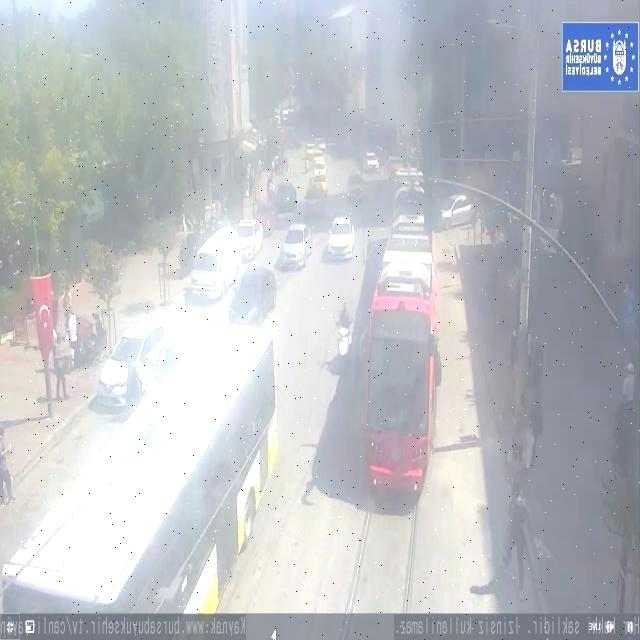Bus: (4, 325, 279, 640)
Car: (94, 321, 168, 407), (228, 264, 278, 327), (434, 191, 481, 234), (324, 216, 357, 263), (232, 220, 266, 262), (278, 226, 309, 271), (272, 181, 297, 209), (250, 204, 277, 229), (310, 170, 328, 194), (362, 150, 379, 170), (205, 391, 212, 392)
Cycle: (334, 321, 358, 373)
Van: (188, 228, 241, 302)
